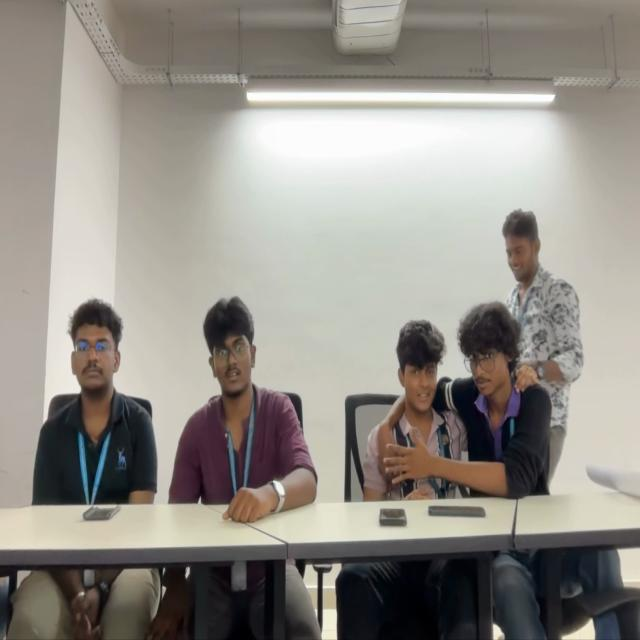Isolated: (172, 296, 315, 499), (32, 297, 154, 500)
socializing: (371, 220, 576, 488)
